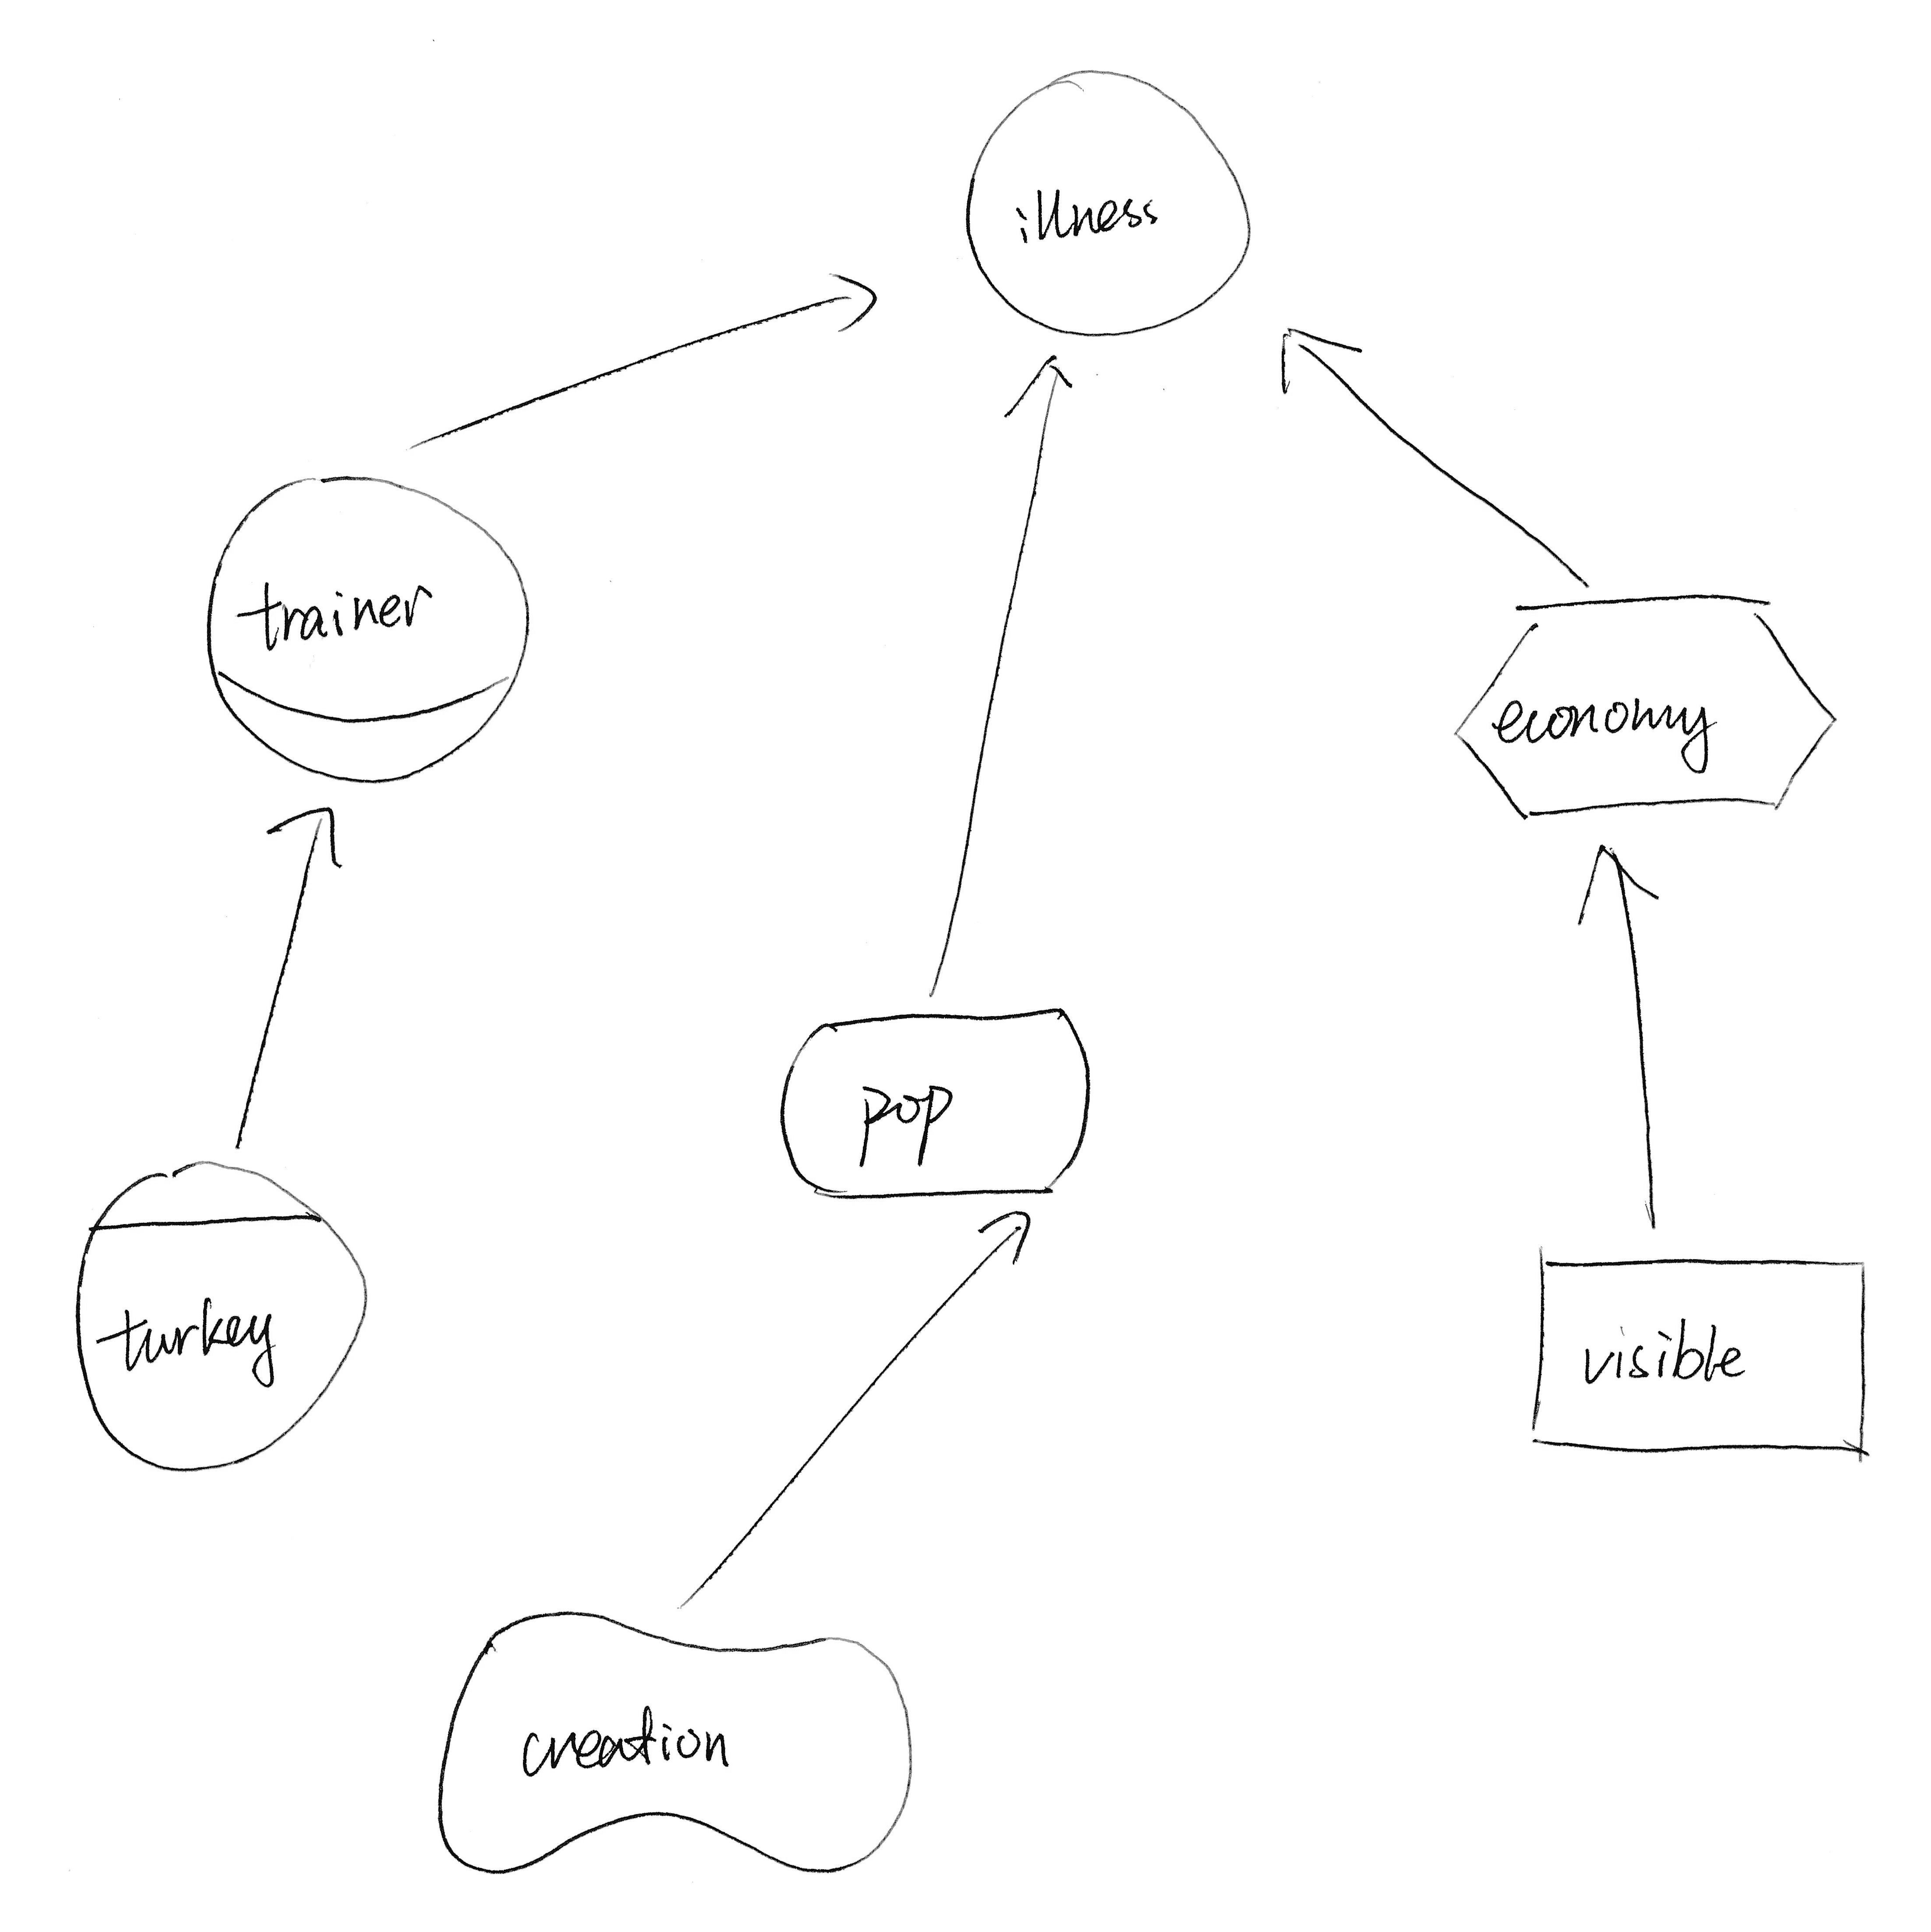actor: (946, 44, 1270, 352)
agent: (62, 1144, 380, 1494)
arrow: (1551, 820, 1668, 935), (1263, 311, 1374, 414), (256, 790, 361, 879), (996, 338, 1089, 435), (815, 251, 898, 348), (946, 1197, 1045, 1273)
goal: (760, 990, 1105, 1213)
quality: (417, 1587, 930, 1898)
resource: (1496, 1230, 1890, 1472)
role: (184, 460, 555, 804)
task: (1432, 574, 1853, 834)
